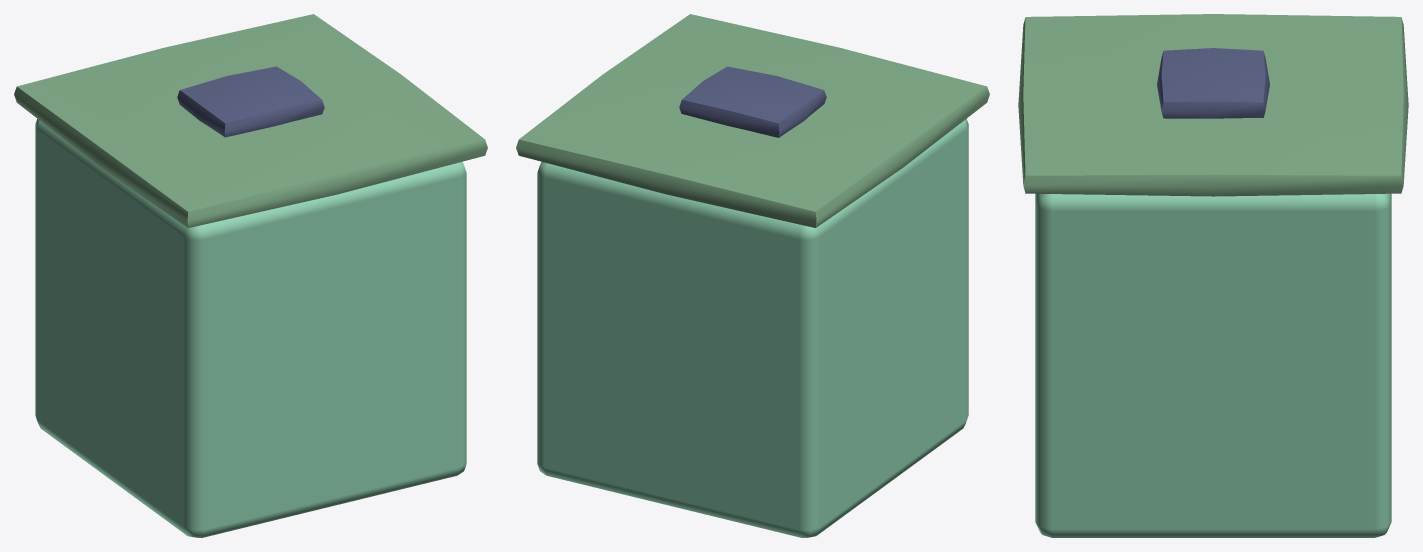
File: recycle-bin.glb
3 renders of one model, left to right at view 1: azimuth 30°, elevation 25°; view 2: azimuth 150°, elevation 25°; view 3: azimuth 270°, elevation 25°, orthographic. The views are drawn at different scales.
Visible parts, largest first — view 1: part (×3); view 2: part (×3); view 3: part (×3).
Part boxes in pixels (bbox=[...]): part (×3): bbox=[14, 14, 487, 537]; part (×3): bbox=[516, 14, 989, 537]; part (×3): bbox=[1018, 14, 1408, 537].
Bounding box in the file's own units: 0.69 × 0.7775 × 0.69.
Materials: 1 (1 with a texture image).
